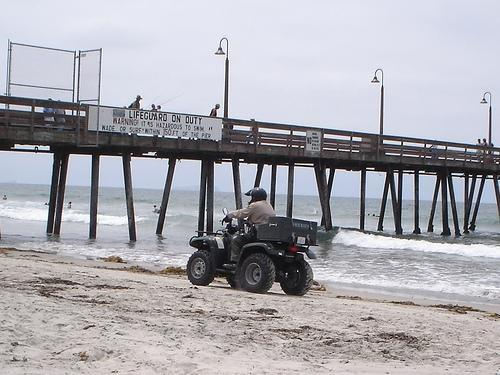truck: (186, 214, 319, 298)
